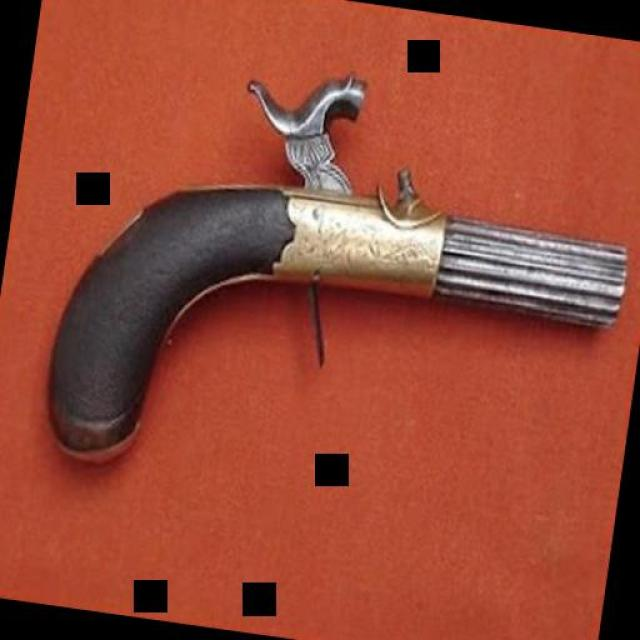gun: (24, 26, 640, 532)
